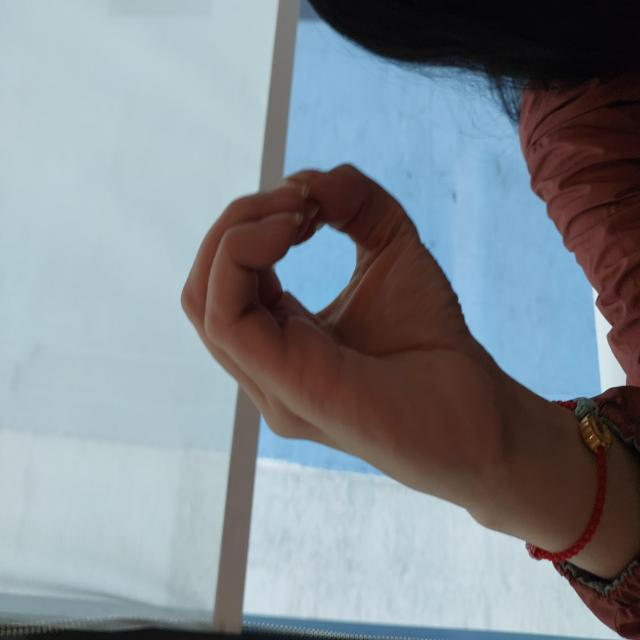O: (150, 178, 482, 525)
